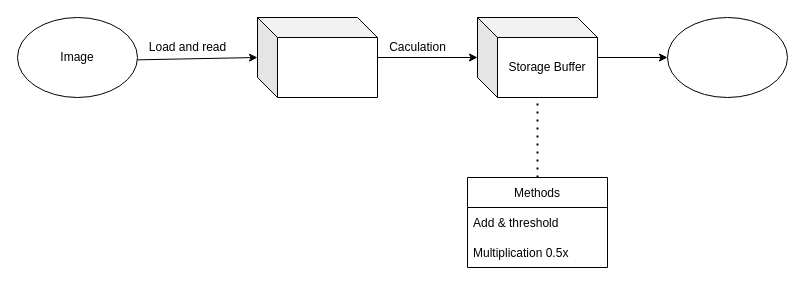
Image size: 805x285. Some labels were removed from this diagram. The shapes that lost their labels are listed below. From the top down, each one's centre as x and y in pixels, then its label:
At point 317,57: "Input Buffer".
At point 727,57: "LCD display".
